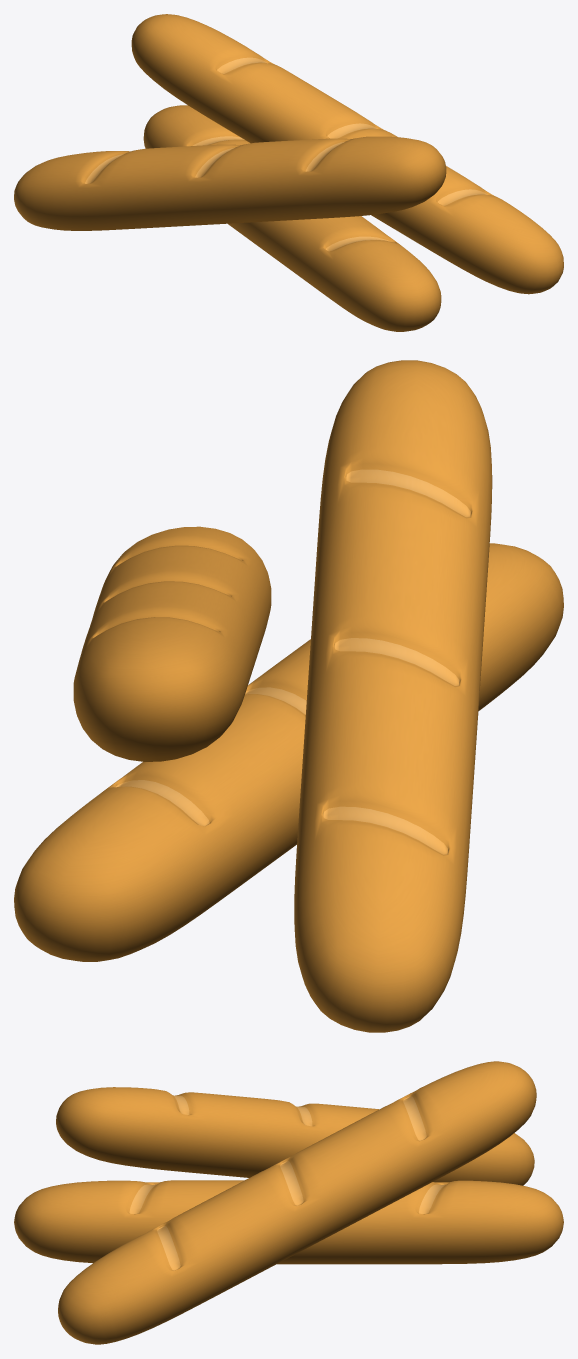
The model's file is Full_Baguette.fbx.
The picture shows the model from 3 angles, top to bottom: view 1: azimuth 30°, elevation 25°; view 2: azimuth 150°, elevation 25°; view 3: azimuth 270°, elevation 25°; orthographic projection. The views are drawn at different scales.
Parts seen in each view (by area): view 1: Full_Baguette; view 2: Full_Baguette; view 3: Full_Baguette.
Boxes of the visible parts, bbox=[...] form: Full_Baguette: bbox=[14, 14, 563, 331]; Full_Baguette: bbox=[14, 360, 563, 1032]; Full_Baguette: bbox=[14, 1061, 563, 1344].
Size of the model in its own units: 29.99 by 14.09 by 38.3.
